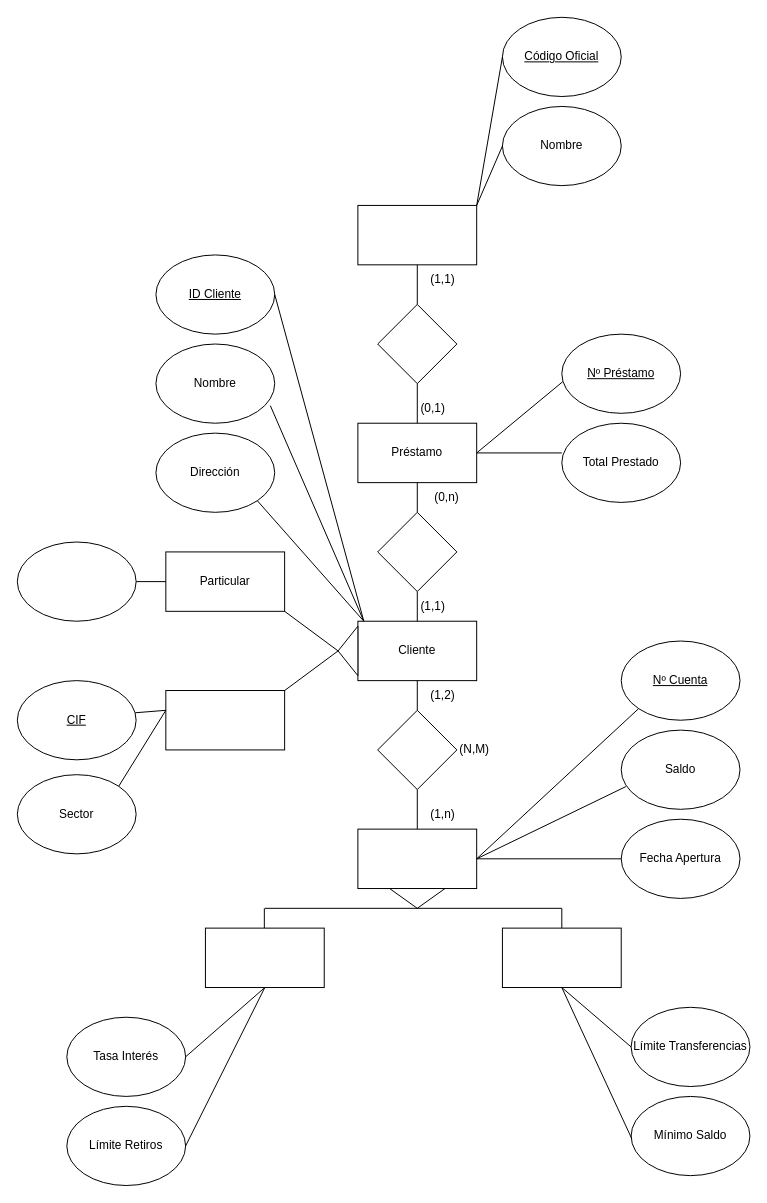
Image size: 767x1203. Some labels were removed from this diagram. The box of each missing label's shape, as (x1, y1, x2, y2) in pixels:
Asociado a: (377, 303, 457, 384)
Contrata: (377, 511, 457, 592)
Cuenta: (357, 828, 477, 889)
Cuenta Ahorro: (204, 927, 324, 988)
Cuenta Corriente: (501, 927, 621, 988)
DNI: (16, 541, 136, 621)
Empresa: (165, 690, 285, 750)
Oficial Préstamo: (357, 204, 477, 265)
Tiene: (377, 709, 457, 790)
